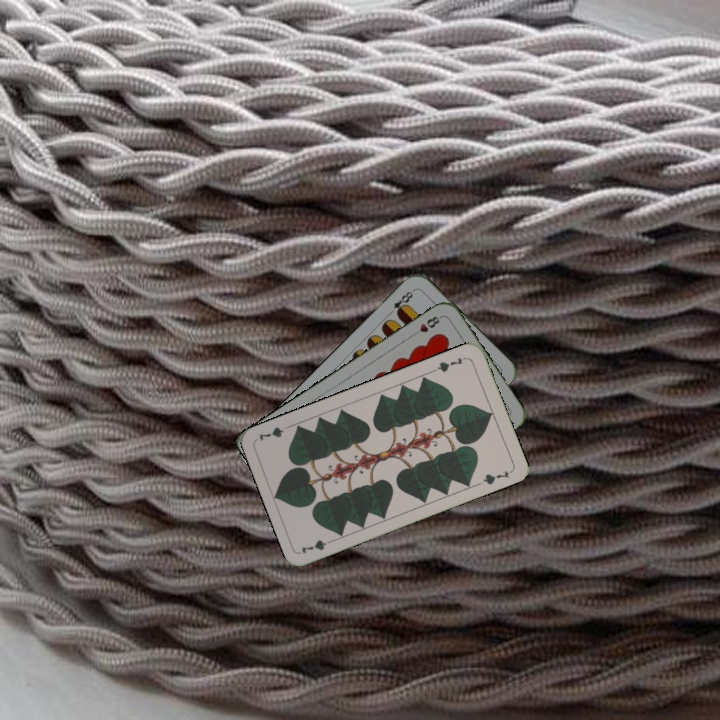E8: (384, 286, 417, 318)
G7: (297, 535, 338, 557), (430, 353, 469, 375)
H8: (408, 312, 444, 339)
